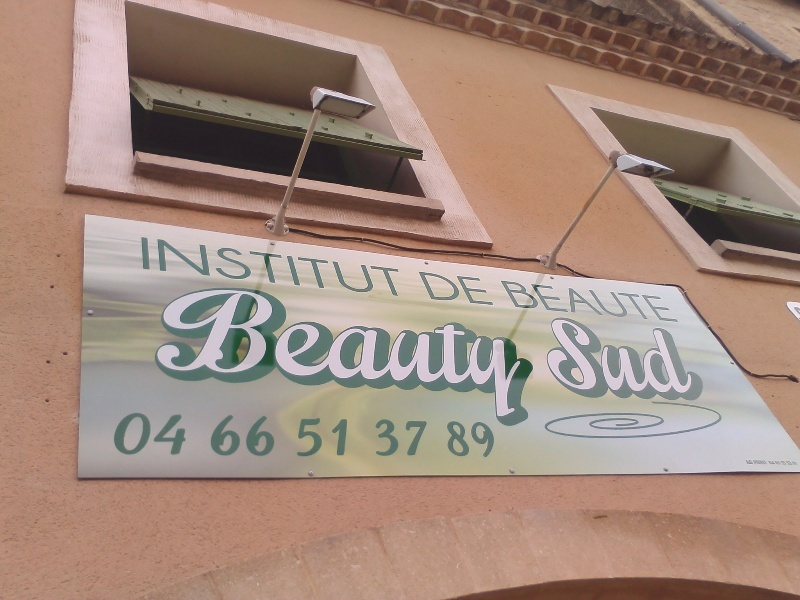text: (177, 278, 192, 430), (193, 278, 208, 430), (209, 278, 224, 430), (225, 278, 240, 430), (241, 278, 256, 430), (257, 278, 272, 430), (273, 278, 288, 430), (289, 278, 304, 430), (305, 278, 320, 430), (321, 278, 336, 430), (337, 278, 352, 430), (353, 278, 368, 430), (369, 278, 384, 430), (385, 278, 400, 430), (401, 278, 416, 430), (417, 278, 432, 430), (433, 278, 448, 430), (449, 278, 464, 430), (465, 278, 480, 430), (481, 278, 496, 430), (497, 278, 512, 430), (513, 278, 528, 430), (561, 315, 576, 402), (577, 315, 592, 402), (593, 315, 608, 402), (609, 315, 624, 402), (625, 315, 640, 402), (641, 315, 656, 402), (657, 315, 672, 402), (673, 315, 688, 402), (689, 315, 704, 402), (547, 315, 560, 402), (169, 278, 176, 430), (145, 234, 160, 301), (161, 234, 176, 301), (177, 234, 192, 301), (193, 234, 208, 301), (209, 234, 224, 301), (225, 234, 240, 301), (241, 234, 256, 301), (257, 234, 272, 301), (273, 234, 288, 301), (289, 234, 304, 301), (305, 234, 320, 301), (321, 234, 336, 301), (337, 234, 352, 301), (353, 234, 368, 301), (369, 234, 384, 301), (385, 234, 400, 301), (529, 278, 534, 430), (129, 411, 144, 458), (145, 411, 160, 458), (161, 411, 176, 458), (177, 411, 192, 458), (225, 413, 240, 459), (241, 413, 256, 459), (257, 413, 272, 459), (497, 279, 512, 323), (513, 279, 528, 323), (529, 279, 544, 323), (545, 279, 560, 323), (561, 279, 576, 323), (577, 279, 592, 323), (593, 279, 608, 323), (609, 279, 624, 323), (625, 279, 640, 323), (641, 279, 656, 323), (657, 279, 672, 323), (481, 268, 497, 307), (385, 417, 400, 458), (401, 417, 416, 458), (305, 417, 320, 458), (321, 417, 336, 458), (705, 315, 712, 402), (417, 268, 432, 307), (433, 268, 448, 307), (449, 268, 464, 307), (465, 268, 480, 307), (449, 419, 464, 458), (465, 419, 480, 458), (481, 419, 496, 458), (337, 417, 351, 458), (417, 417, 430, 458), (213, 413, 224, 459), (273, 413, 283, 459), (138, 234, 144, 301), (401, 234, 407, 301), (673, 279, 682, 323), (376, 417, 384, 458), (297, 417, 304, 458), (122, 411, 128, 458), (444, 419, 448, 458), (786, 460, 800, 466), (753, 460, 768, 465), (775, 461, 784, 466), (769, 460, 776, 465), (746, 460, 752, 465), (781, 461, 784, 465), (785, 461, 788, 465), (753, 460, 754, 465)
